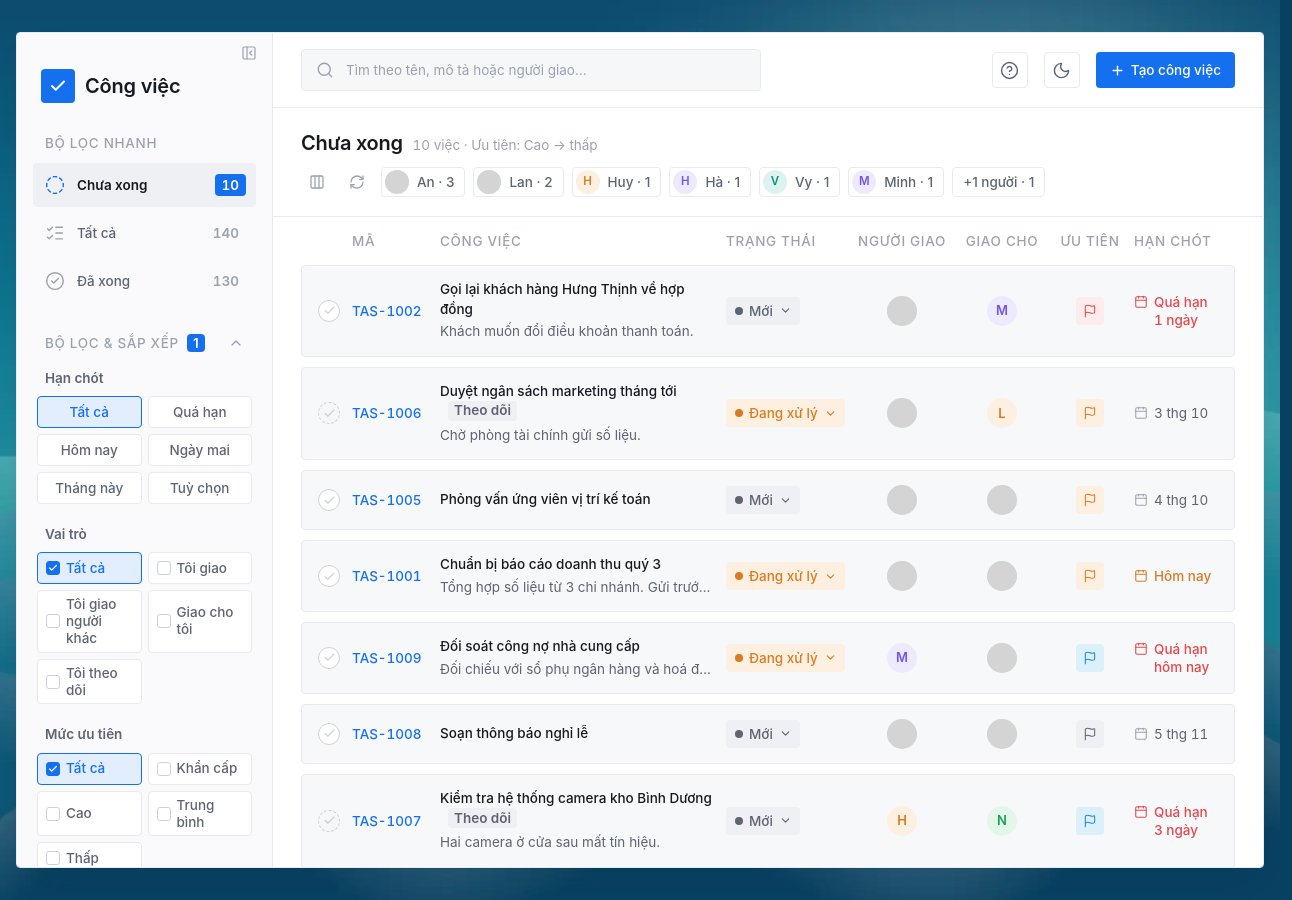
Test: Mức ưu tiên: multi-select priority filter › narrows the list to the ticked priorities, counts as a filter and resets
What coordinates should you click on to do the following:
click the checkbox with test id "prio-filter-urgent"
I would click on:
 (200, 769)
Its box is [148,753,252,785].
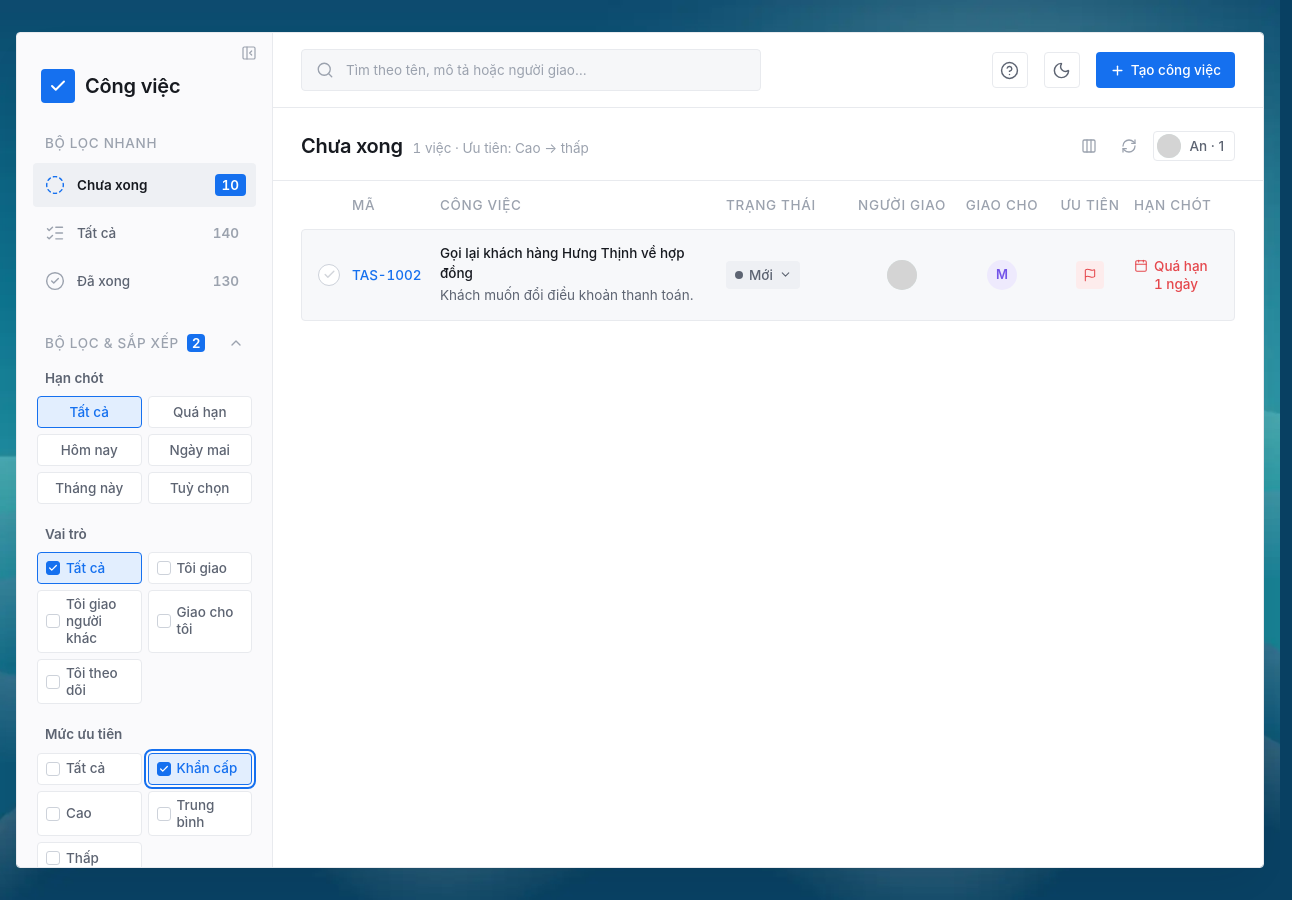
Check: the text with test id "count-open" reads "10", box [222,177,239,193]
Check: the checkbox with test id "prio-filter-all" is not checked, box [37,753,142,785]
What coordinates should you click on to do the following:
click the checkbox with test id "prio-filter-low"
I would click on:
 (89, 858)
Its box is [37,842,142,874].
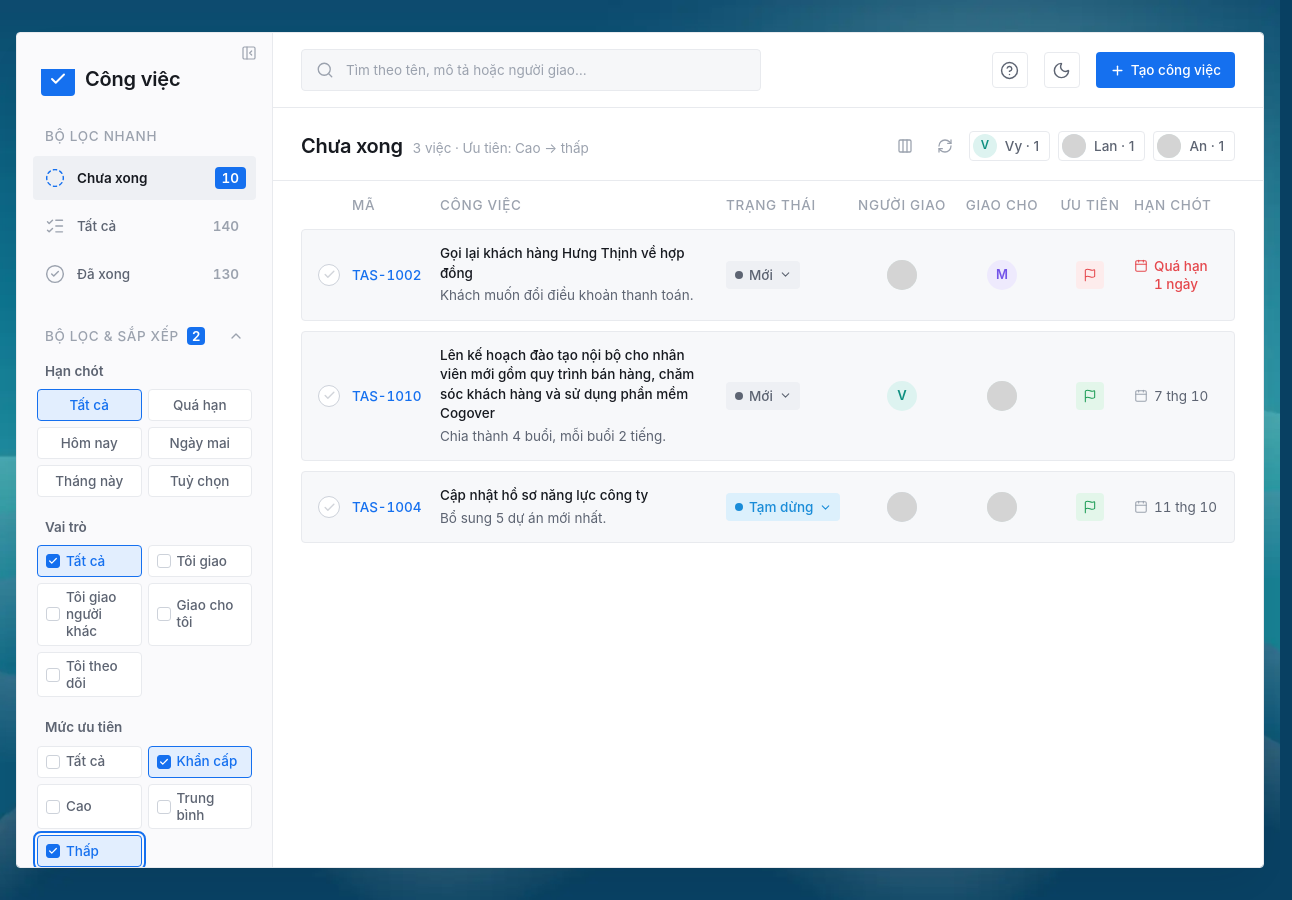
What coordinates should you click on to do the following:
click the checkbox with test id "prio-filter-high"
I would click on:
 (89, 806)
Its box is [37,784,142,829].
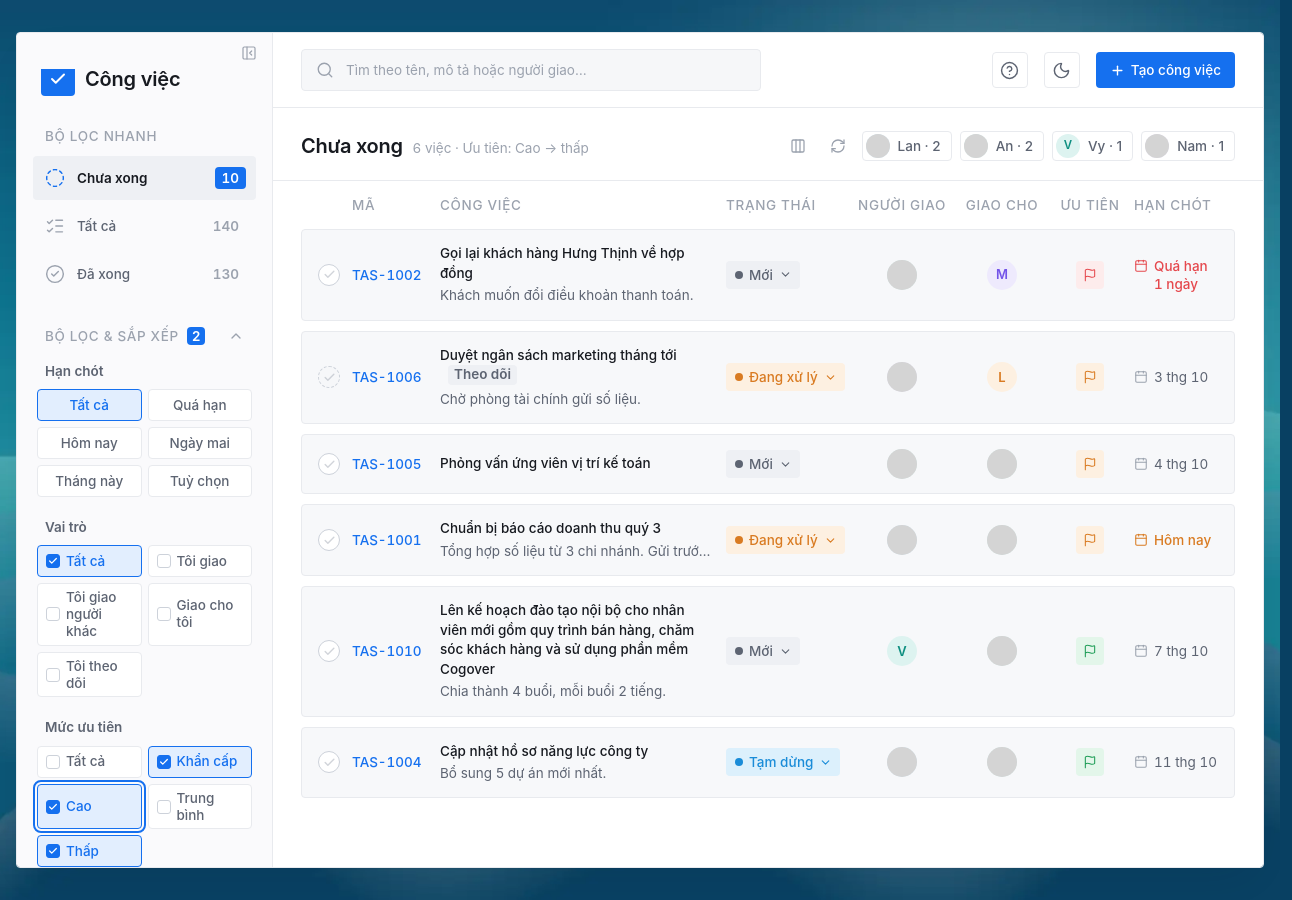
What coordinates should you click on to do the following:
click the checkbox with test id "prio-filter-medium"
I would click on:
 (200, 806)
Its box is [148,784,252,829].
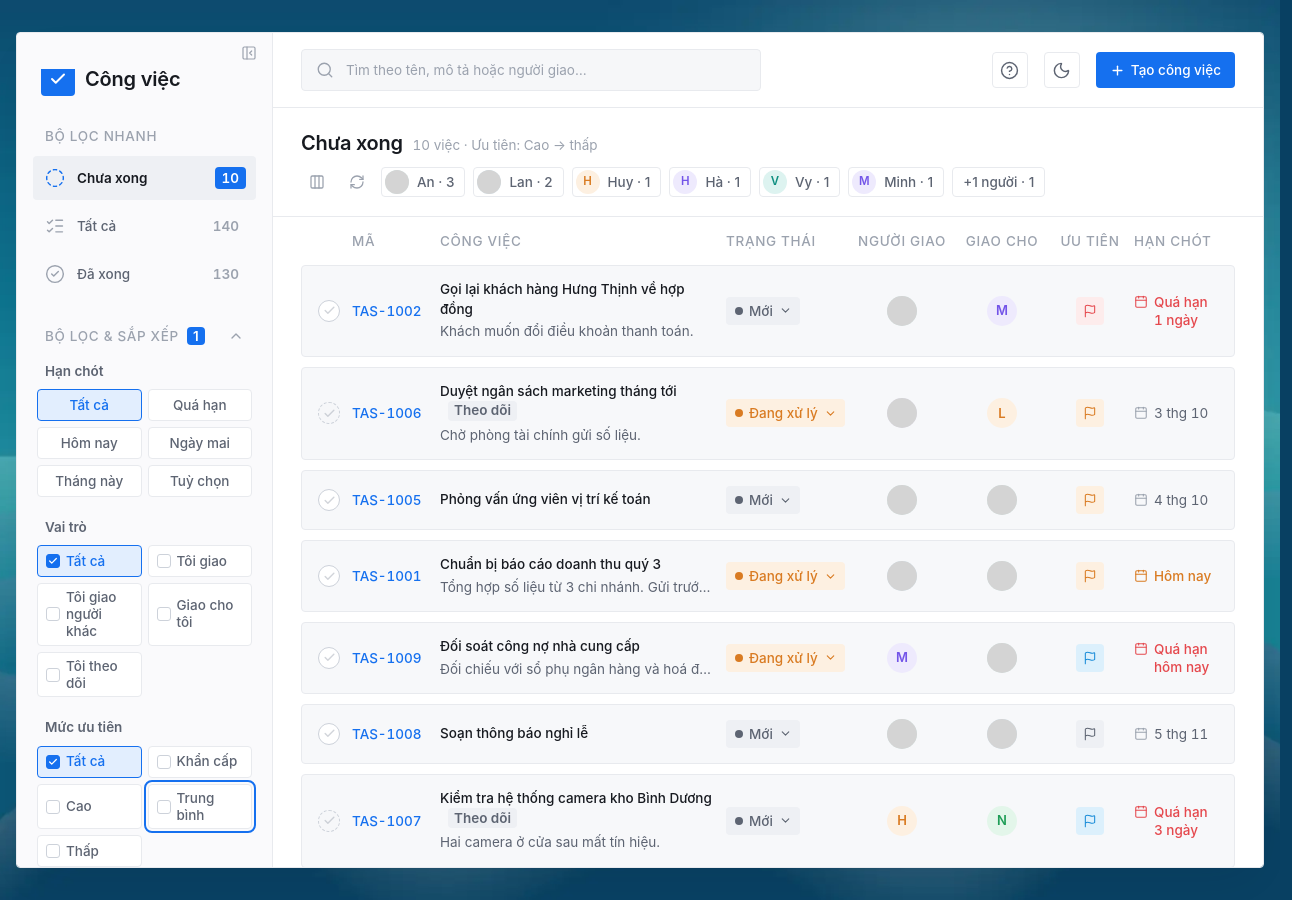
Check: the checkbox with test id "prio-filter-all" is checked, box [37,746,142,778]
What coordinates should you click on to do the following:
click the checkbox with test id "prio-filter-high"
I would click on:
 (89, 806)
Its box is [37,784,142,829].
(page scrolled)
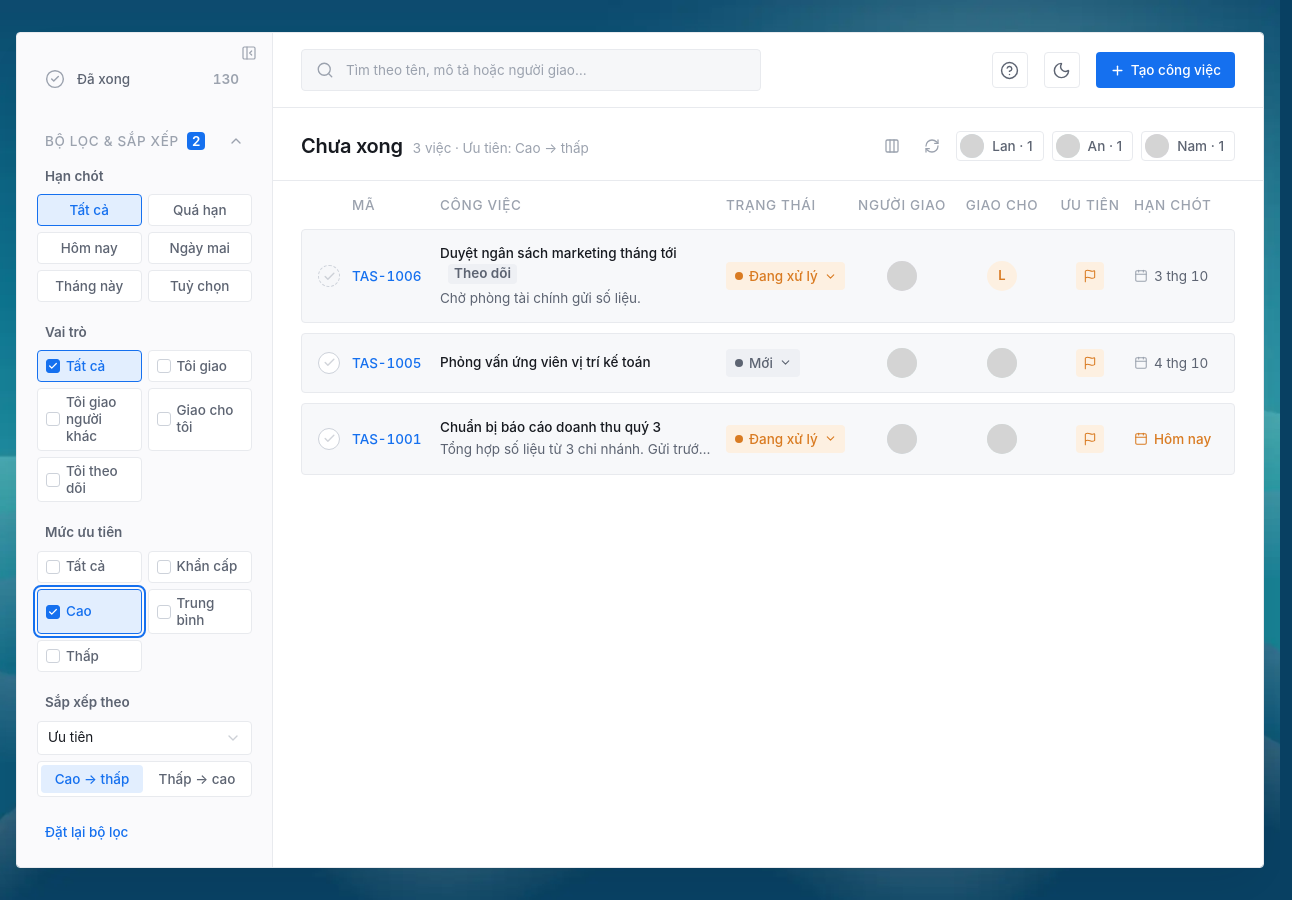
What coordinates should you click on to do the following:
click the button "Đặt lại bộ lọc"
I would click on:
 (87, 832)
Its box is [37,817,136,847].
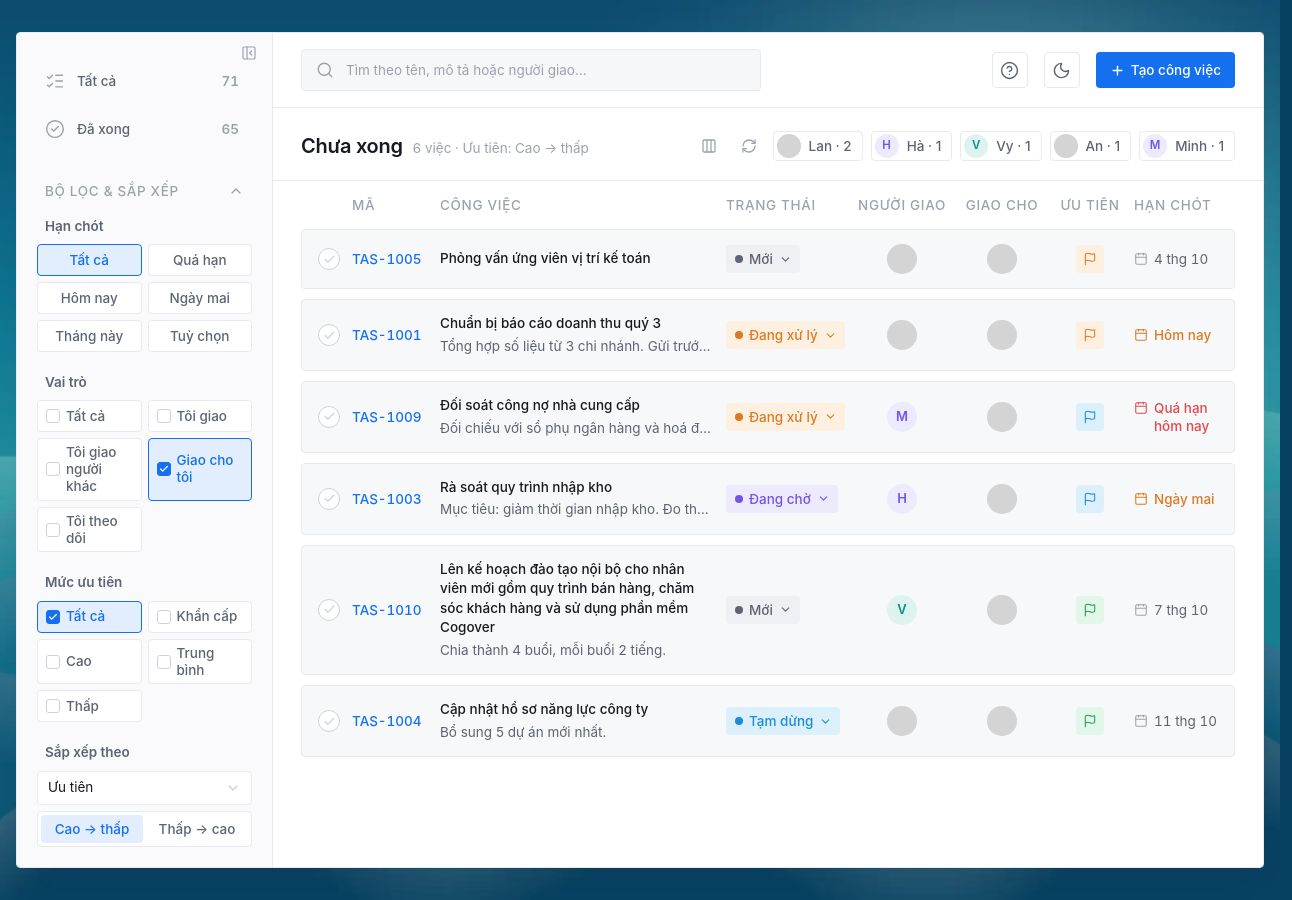
Check: the checkbox with test id "prio-filter-all" is checked, box [37,601,142,633]
